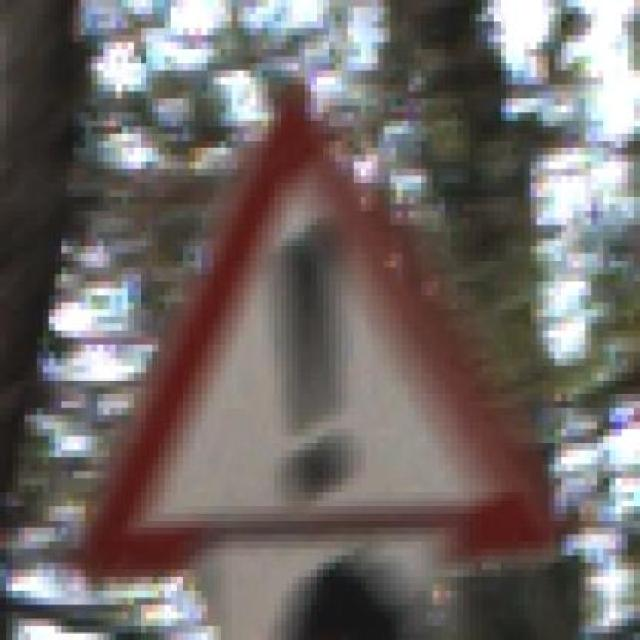Attention Please-: (67, 91, 548, 584)
